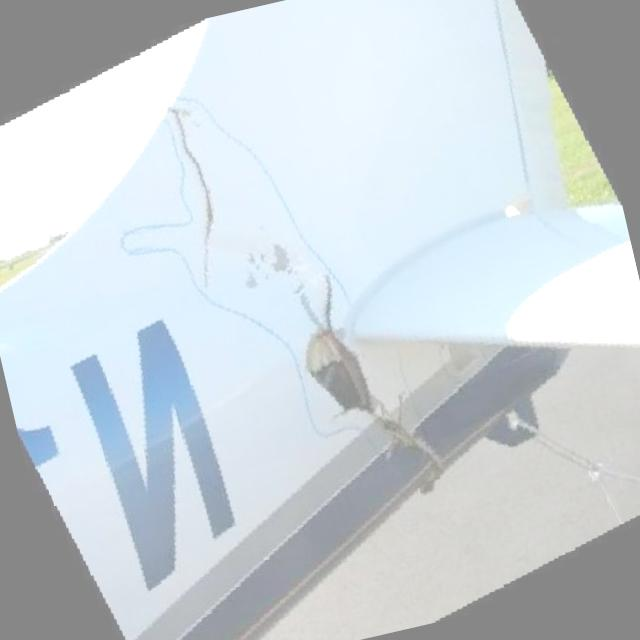crack: (140, 106, 248, 310)
